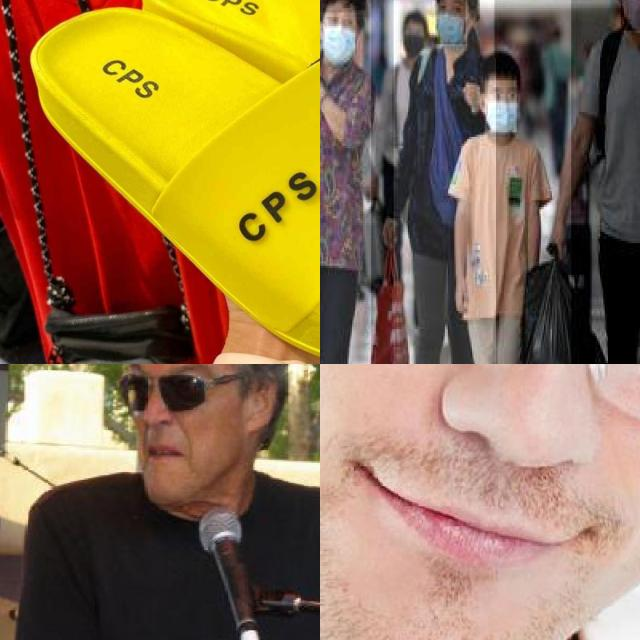No_Ear-Protection: (241, 364, 284, 444)
Sandals: (8, 0, 320, 364)
face_mask: (320, 4, 357, 64), (485, 80, 518, 135), (435, 0, 467, 46), (402, 24, 426, 58), (620, 0, 640, 32)
face_nomask: (331, 364, 640, 610), (123, 372, 220, 468)
glasses: (320, 364, 640, 445), (112, 367, 215, 419)
hand_noglove: (542, 207, 575, 273), (446, 268, 479, 322), (376, 207, 403, 252)
head_nohelmet: (478, 55, 524, 94), (320, 0, 368, 12)
person: (18, 364, 320, 640), (393, 0, 496, 364), (451, 57, 548, 364), (571, 0, 640, 364), (320, 0, 372, 364)
